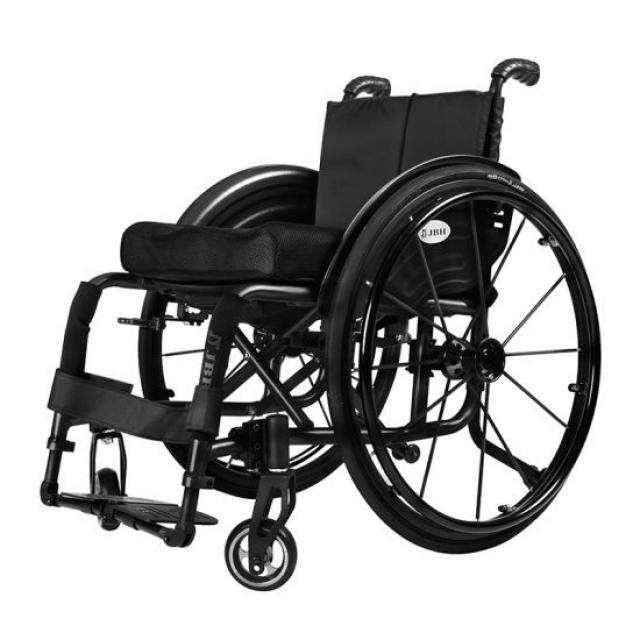wheelchair: (34, 54, 610, 603)
